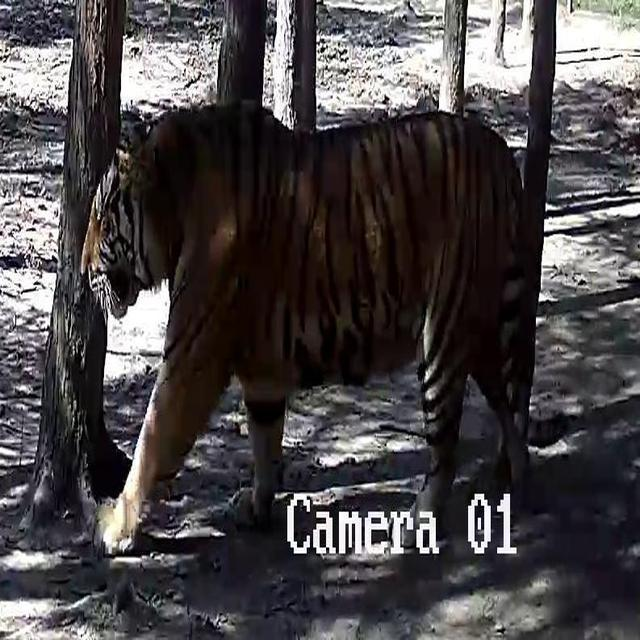tiger: (79, 98, 539, 556)
